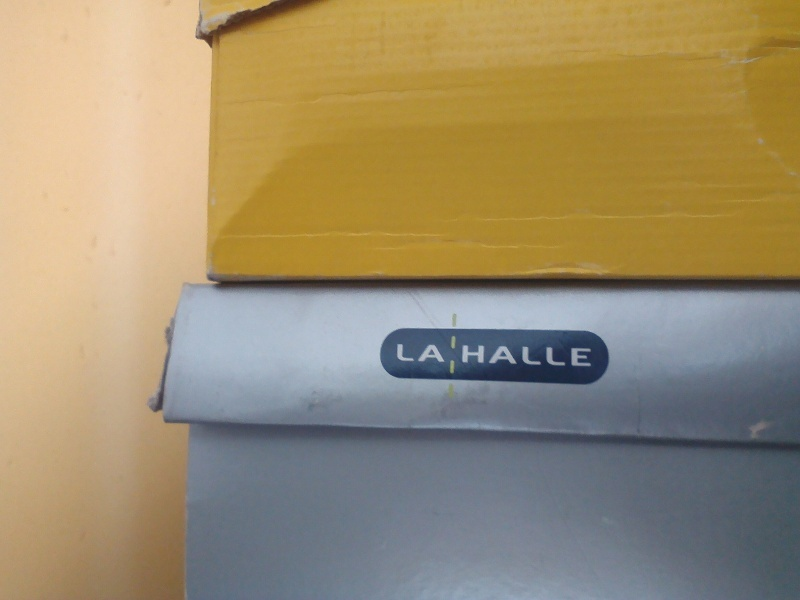text: (465, 343, 480, 368), (481, 343, 496, 368), (497, 343, 512, 368), (513, 343, 528, 368), (529, 343, 544, 368), (545, 343, 560, 368), (561, 343, 576, 368), (577, 343, 592, 368), (401, 343, 416, 363), (417, 343, 432, 363), (433, 343, 448, 363), (396, 343, 400, 363), (461, 343, 464, 368), (593, 343, 594, 368)
